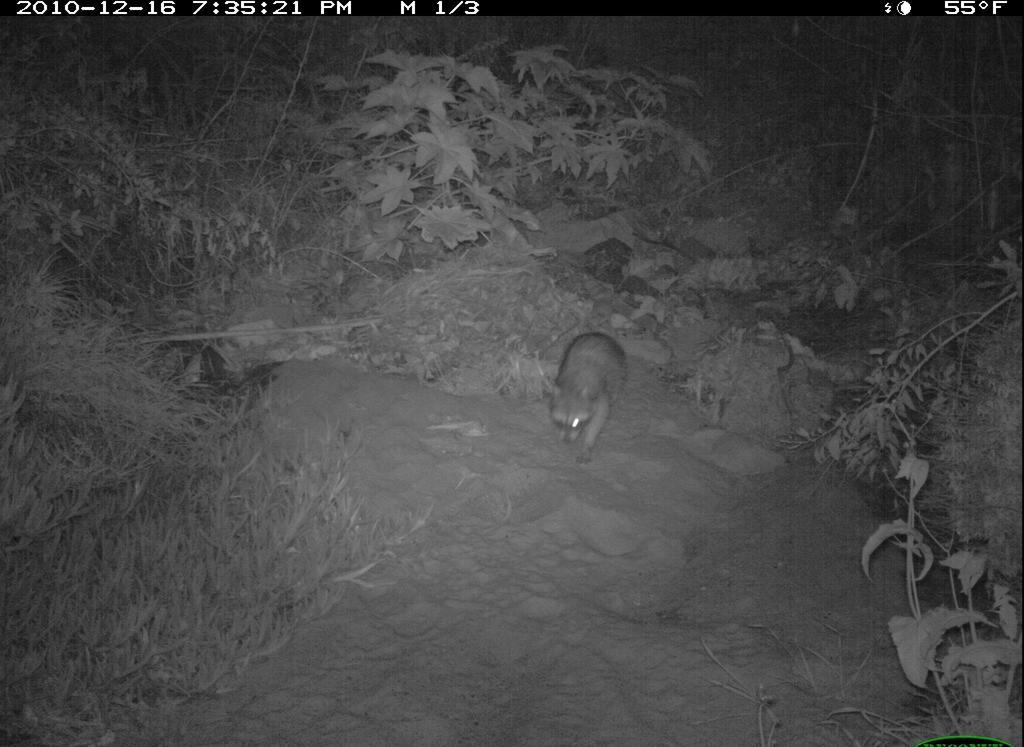raccoon: (524, 318, 643, 465)
